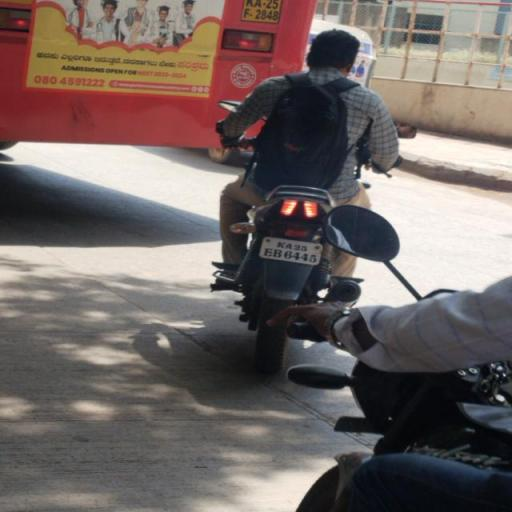bike: (211, 23, 416, 374)
numberplate: (258, 235, 330, 274)
withouthelmet: (308, 32, 356, 72)
